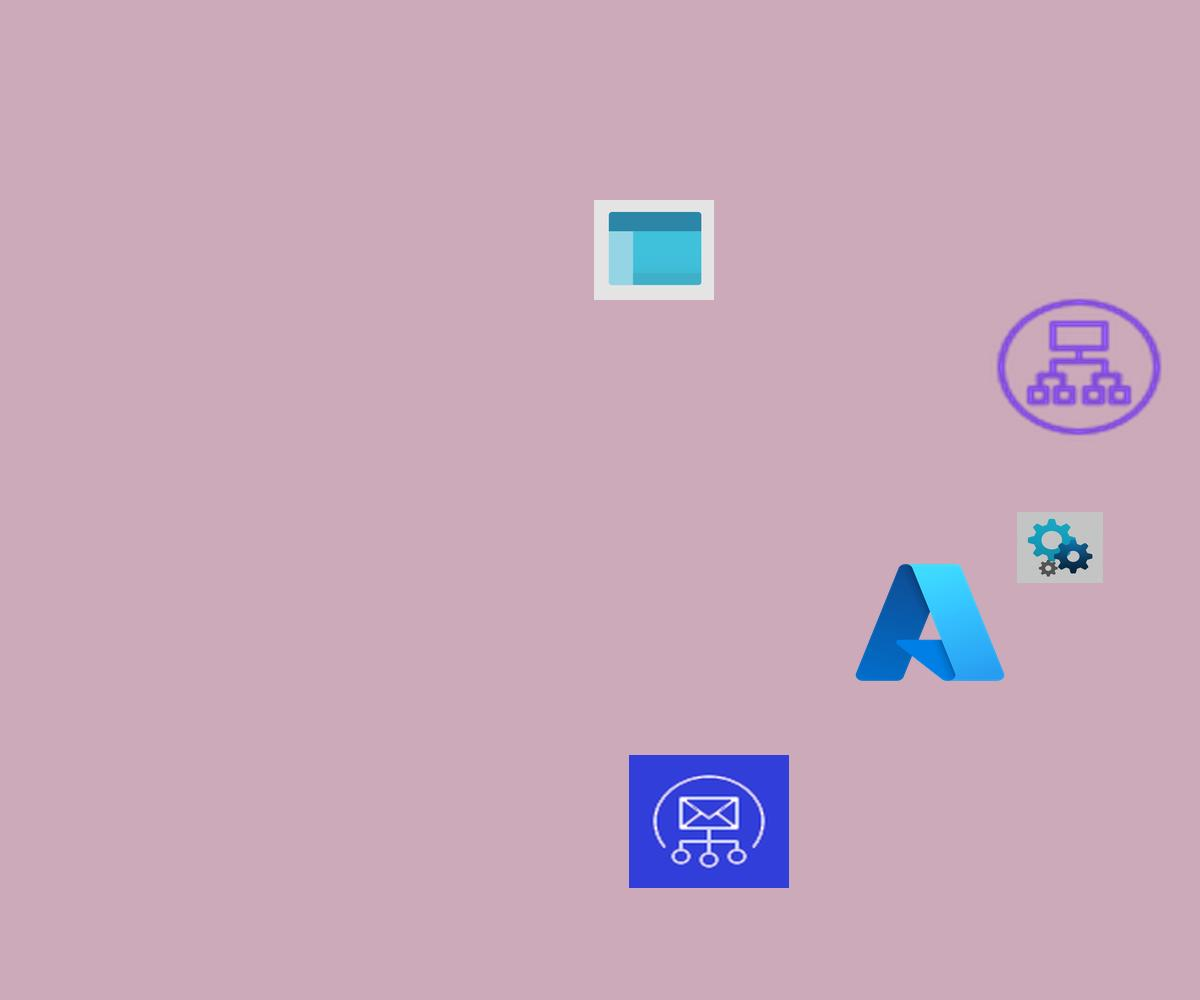AWS-Res_Elastic-Load-Balancing_Application-Load-Balancer: (990, 293, 1168, 441)
AWS-Simple-Email-Service: (629, 755, 789, 888)
Azure_api: (1017, 512, 1103, 583)
Azure_management-portal: (594, 200, 714, 300)
Azure_services: (849, 555, 1011, 690)
